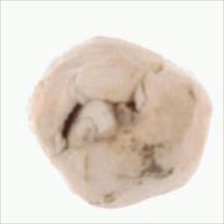L3: (57, 96, 139, 149)
L4: (26, 35, 212, 209)
